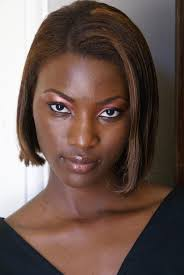black_female: (14, 8, 174, 205)
